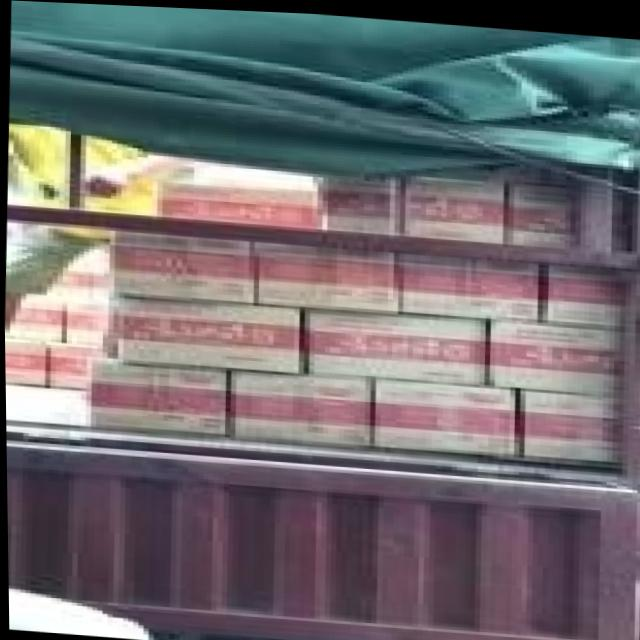box: (116, 296, 302, 370), (304, 307, 484, 380), (373, 375, 519, 455), (228, 368, 374, 445), (483, 314, 624, 390), (85, 358, 228, 432), (113, 229, 254, 300), (257, 239, 398, 307), (398, 249, 542, 314), (519, 386, 622, 462), (156, 180, 321, 226), (398, 171, 507, 239), (541, 259, 625, 320), (508, 178, 575, 244), (326, 171, 395, 228), (4, 294, 61, 342), (49, 344, 106, 387), (4, 341, 44, 384)
